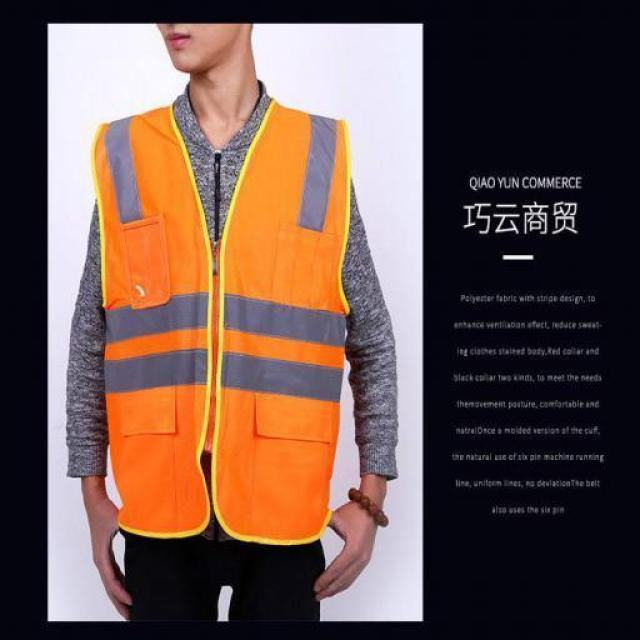vest: (93, 117, 332, 525)
